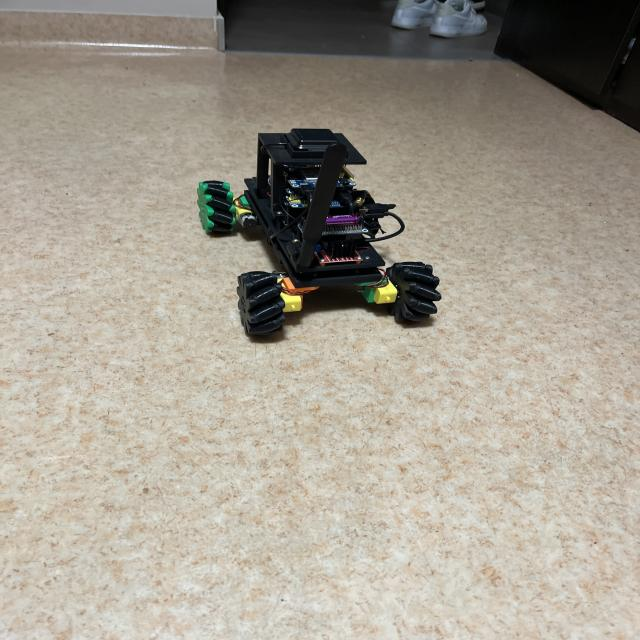robot: (197, 128, 441, 336)
